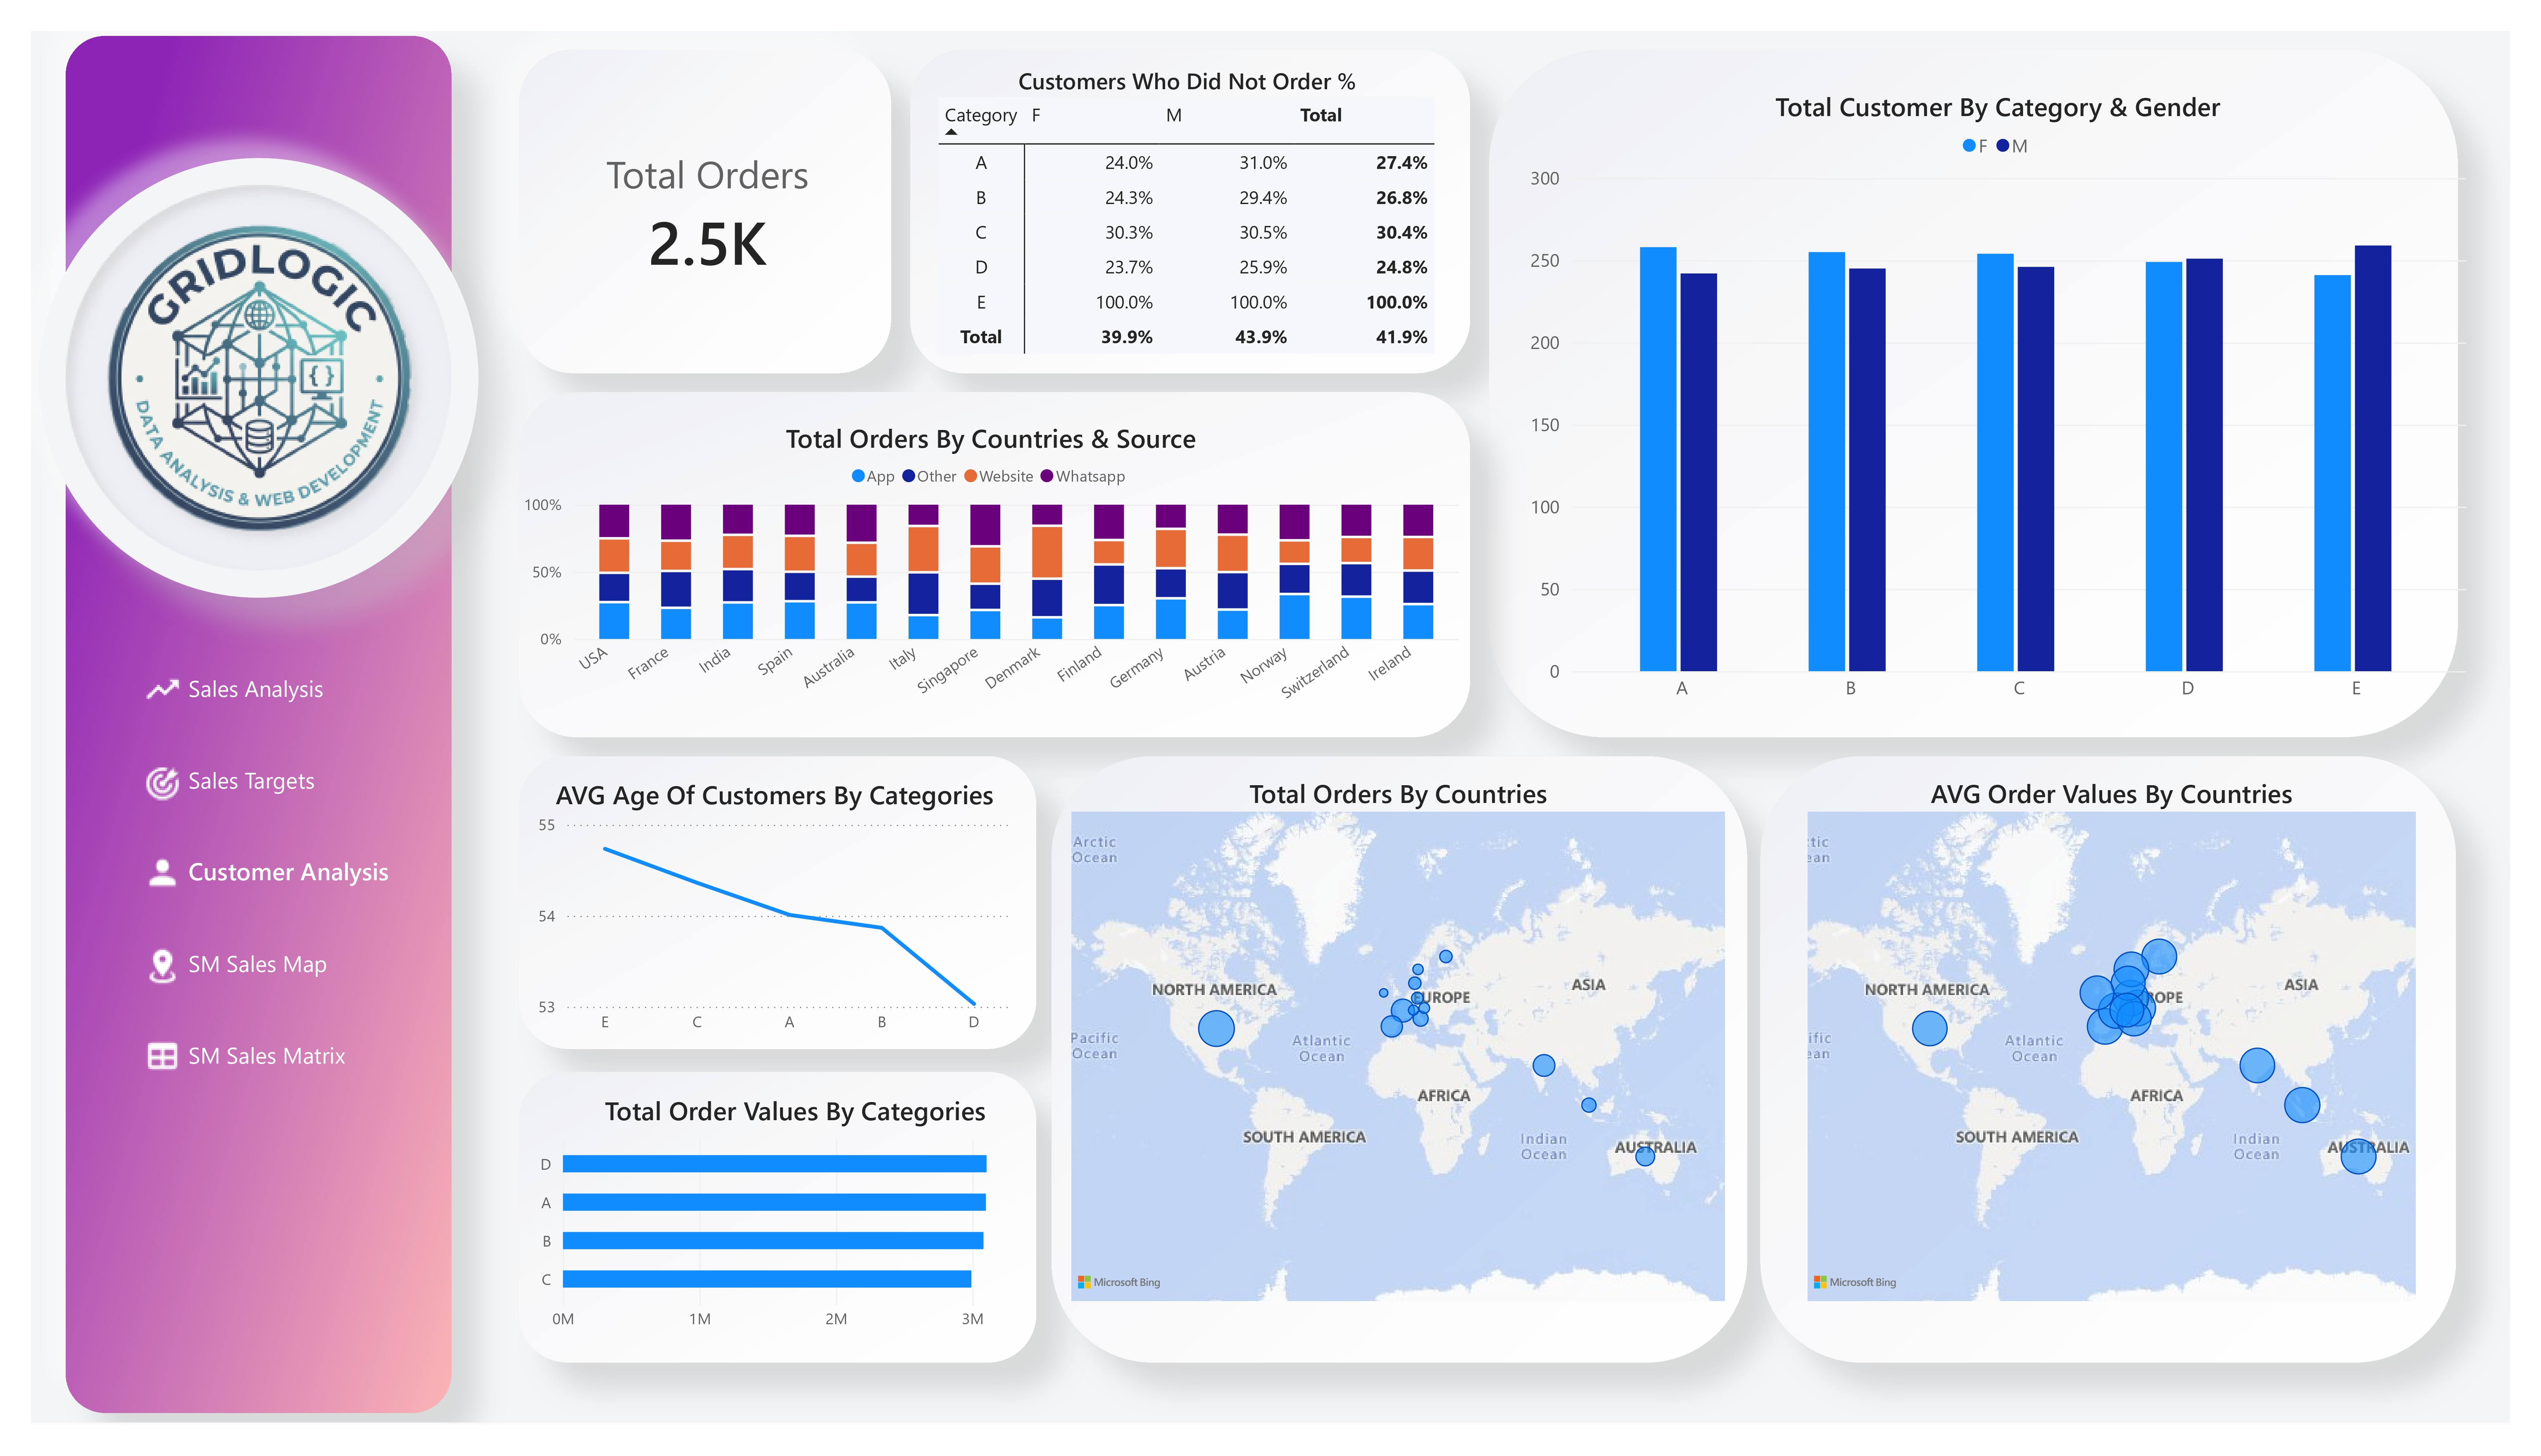

The dashboard page shown, as its layout file describes it:
{"tool":"powerbi","page":{"name":"Customer Analysis","canvas":[1920,1080],"ordinal":2},"visuals":[{"type":"map","title":"Total Orders By Countries","fields":{"Category":["Orders.Customer Country"],"Size":["CountNonNull(Orders.Order ID)"]},"box":[790,561.7,538.3,438.3],"z":0},{"type":"map","title":"AVG Order Values By Countries","fields":{"Category":["Orders.Customer Country"],"Size":["Avg(Orders.Order Value)"]},"box":[1360,561.7,503.3,438.3],"z":1000},{"type":"actionButton","title":"TableIconButton","box":[82.9,775.3,37.6,37.6],"z":1500,"group":"g1"},{"type":"pivotTable","title":"Customers Who Did Not Order %","fields":{"Rows":["Customers.Category"],"Columns":["Customers.Gender"],"Values":["MeasureTable.% CustomersDidNotOrder"]},"box":[687.2,11.7,417.3,259.7],"z":2000},{"type":"hundredPercentStackedColumnChart","title":"Total Orders By Countries & Source","fields":{"Category":["Customers.Customer Country"],"Y":["CountNonNull(Orders.Order ID)"],"Series":["Orders.Order Source"]},"box":[365,286.7,756.7,265],"z":3000},{"type":"clusteredColumnChart","title":"Total Customer By Category & Gender","fields":{"Category":["Customers.Category"],"Y":["CountNonNull(Customers.Customer ID)"],"Series":["Customers.Gender"]},"box":[1145,30,756.7,510],"z":4000},{"type":"actionButton","title":"MapIconButton","box":[82.9,704.8,37.6,37.6],"z":4000,"group":"g1"},{"type":"actionButton","title":"CustomerIconButton","box":[82.9,632.4,37.6,37.6],"z":4312,"group":"g1"},{"type":"actionButton","title":"TargetIconButton","box":[82.9,563.4,37.6,37.6],"z":4625,"group":"g1"},{"type":"lineChart","title":"AVG Age Of Customers By Categories","fields":{"Category":["Customers.Category"],"Y":["Avg(Customers.Age)"]},"box":[376.7,563.3,398.3,233.3],"z":5000},{"type":"actionButton","title":"SalesIconButton","box":[82.9,490.5,37.6,37.6],"z":5250,"group":"g1"},{"type":"pageNavigator","title":"PageNavigator","box":[110,473.8,182.5,355],"z":5500,"group":"g1"},{"type":"clusteredBarChart","title":"Total Order Values By Categories","fields":{"Category":["Customers.Category"],"Y":["Sum(Orders.Order Value)"]},"box":[376.7,808.3,430,218.3],"z":6000},{"type":"cardVisual","title":"Total Orders","fields":{"Data":["CountNonNull(Orders.Order ID)"]},"box":[393.3,30,261.7,223.3],"z":7000},{"type":"group","id":"g1","title":"NavMenu","box":[82.9,473.8,209.6,355],"z":8000}]}

Visuals, with their boxes on the page's 1920x1080 design canvas (x1, y1, x2, y2). These are canvas units, not pixel positions in the 2541x1456 screenshot, which may show the page scaled, cropped or inside an application window:
"Total Orders By Countries" map: [x1=790, y1=562, x2=1328, y2=1000]
"AVG Order Values By Countries" map: [x1=1360, y1=562, x2=1863, y2=1000]
"TableIconButton" actionButton: [x1=83, y1=775, x2=120, y2=813]
"Customers Who Did Not Order %" pivotTable: [x1=687, y1=12, x2=1104, y2=271]
"Total Orders By Countries & Source" hundredPercentStackedColumnChart: [x1=365, y1=287, x2=1122, y2=552]
"Total Customer By Category & Gender" clusteredColumnChart: [x1=1145, y1=30, x2=1902, y2=540]
"MapIconButton" actionButton: [x1=83, y1=705, x2=120, y2=742]
"CustomerIconButton" actionButton: [x1=83, y1=632, x2=120, y2=670]
"TargetIconButton" actionButton: [x1=83, y1=563, x2=120, y2=601]
"AVG Age Of Customers By Categories" lineChart: [x1=377, y1=563, x2=775, y2=797]
"SalesIconButton" actionButton: [x1=83, y1=490, x2=120, y2=528]
"PageNavigator" pageNavigator: [x1=110, y1=474, x2=292, y2=829]
"Total Order Values By Categories" clusteredBarChart: [x1=377, y1=808, x2=807, y2=1027]
"Total Orders" cardVisual: [x1=393, y1=30, x2=655, y2=253]
"NavMenu" group: [x1=83, y1=474, x2=292, y2=829]
